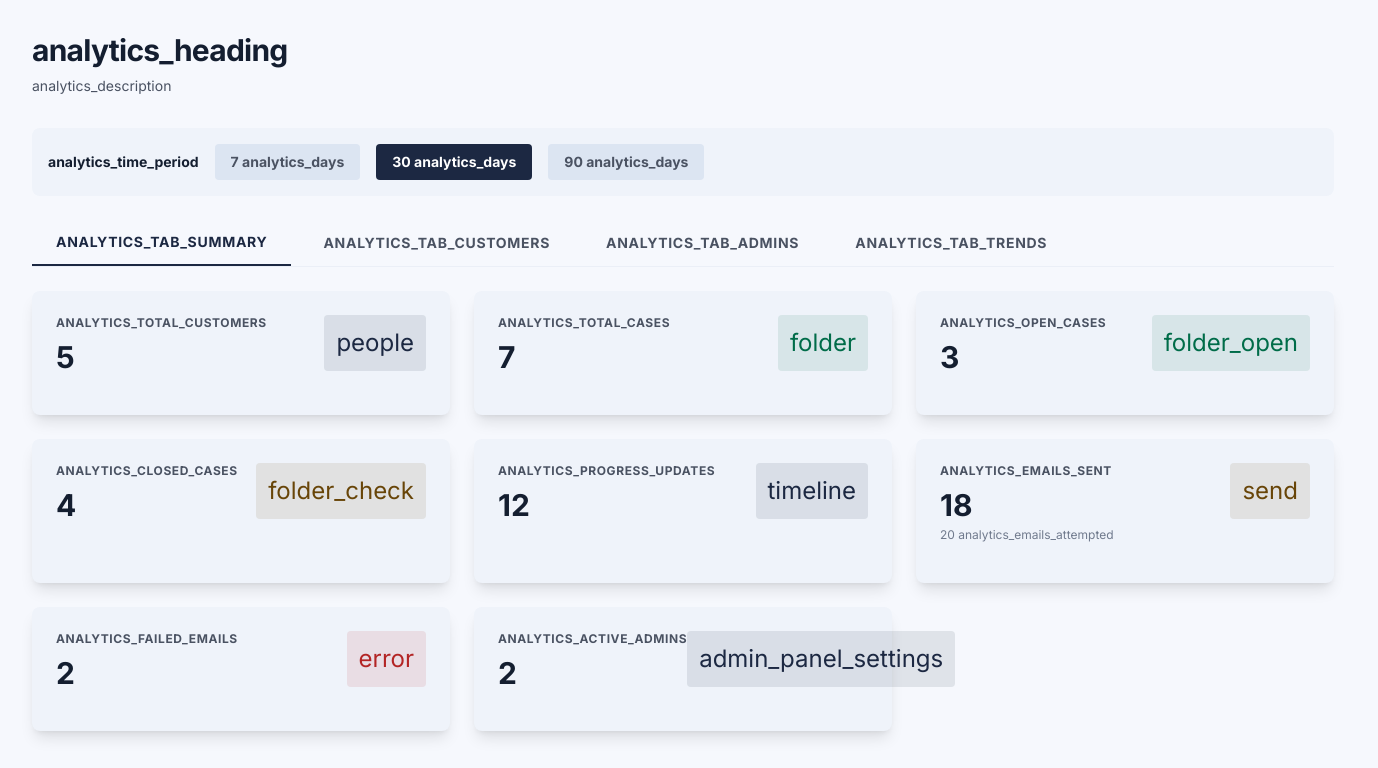
Scenario: Analytics component › shows empty customers state
Click the button "analytics_tab_customers" at (437, 243), box [300,220,574,266]
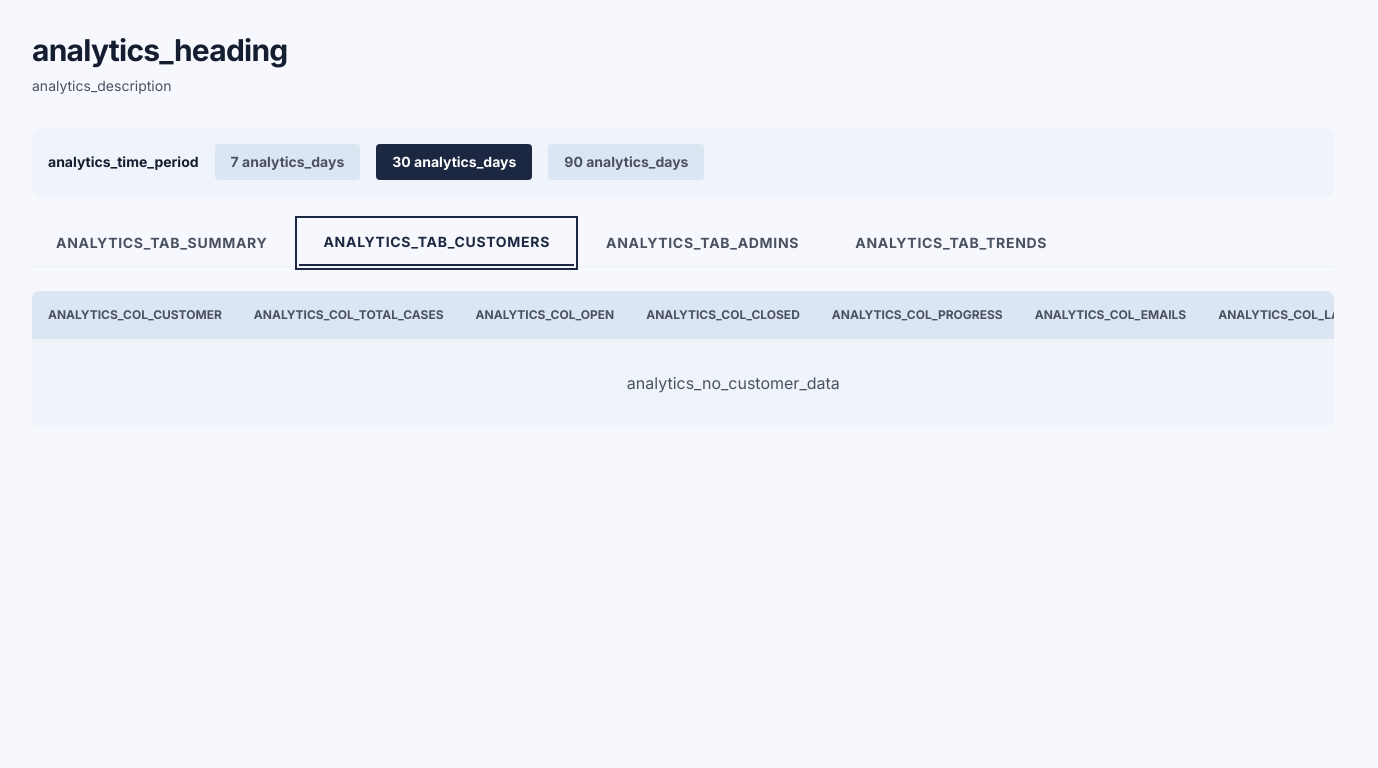
expect the text "analytics_no_customer_data" is shown: met, box [32,339,1334,427]
